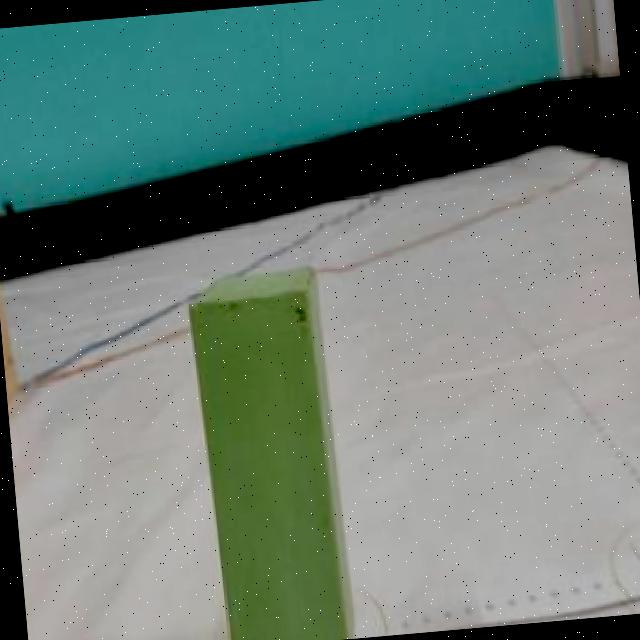greenbox: (178, 263, 355, 640)
